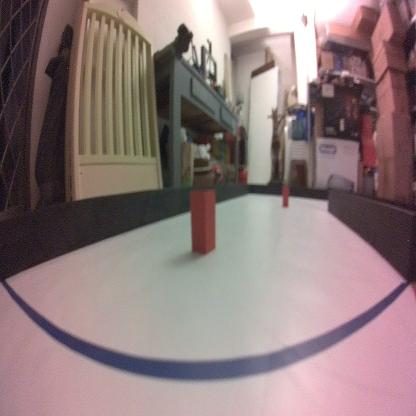red: (190, 187, 215, 255), (282, 186, 288, 208)
